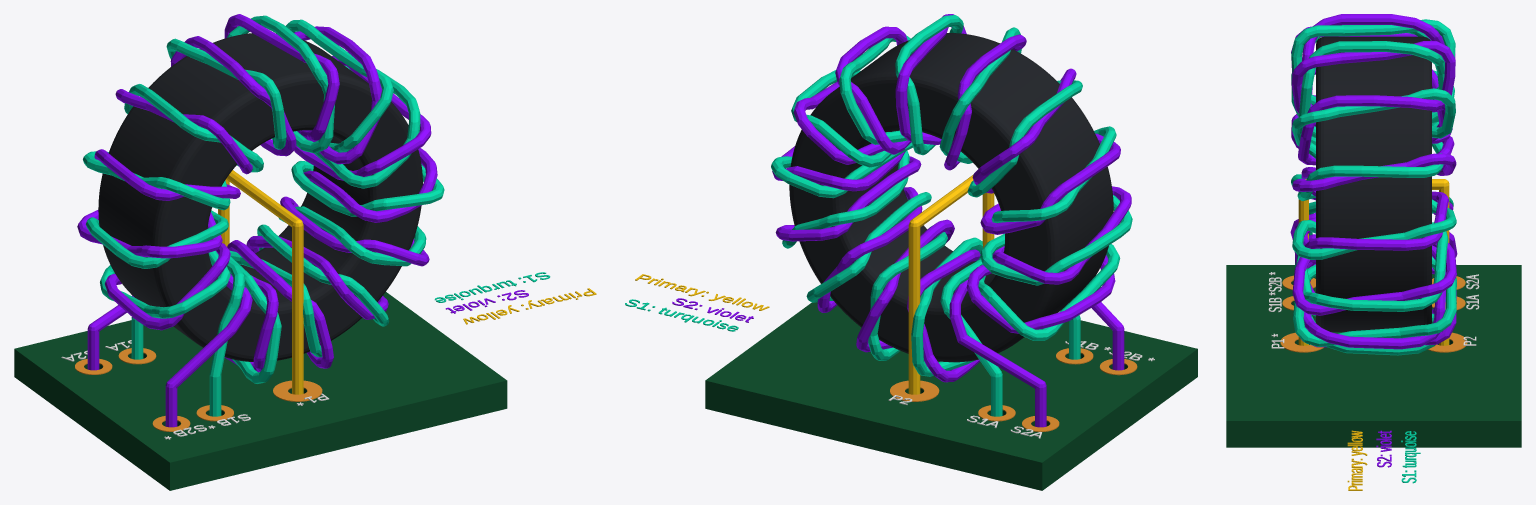
The model's file is current_transformer_color.glb.
3 renders of one model, left to right at view 1: azimuth 30°, elevation 25°; view 2: azimuth 150°, elevation 25°; view 3: azimuth 270°, elevation 25°, orthographic. The views are drawn at different scales.
Parts seen in each view (by area): view 1: current_transformer; view 2: current_transformer; view 3: current_transformer.
Boxes of the visible parts, x1,y1,x2,y2 form: current_transformer: [14, 14, 596, 490]; current_transformer: [625, 14, 1197, 490]; current_transformer: [1226, 14, 1521, 490].
Bounding box in the file's own units: 0.0291 × 0.0211 × 0.016.
